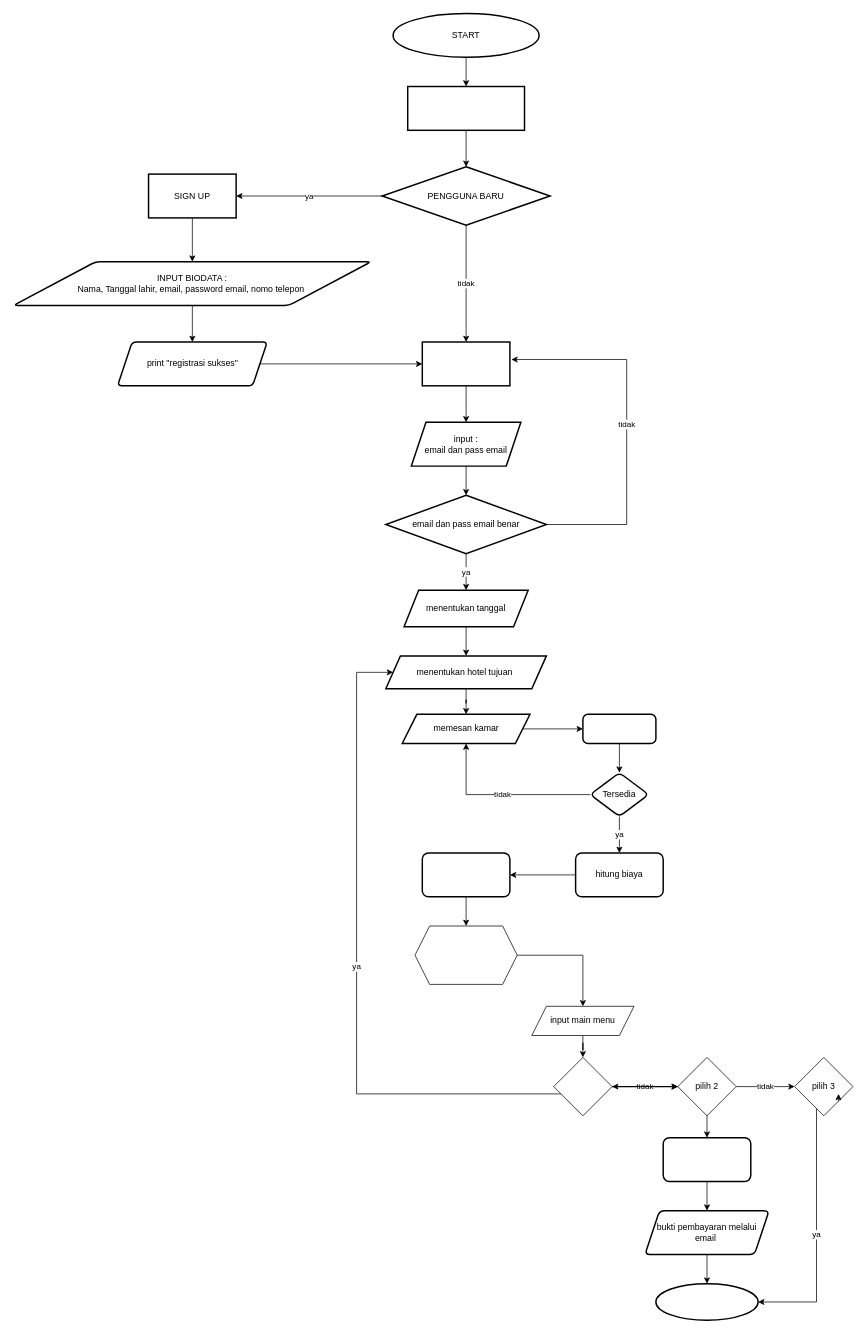
This 866x1333 diagram has some shape labels left out. The shapes that lost their labels are listed below. From the top down, each one's centre as x and y in pixels, then its label:
At pixel 466 108: "Melakukan Registrasi".
At pixel 465 363: "sign in".
At pixel 619 728: "cek kesediaan kamar".
At pixel 465 874: "persetujuan".
At pixel 465 954: "main menu : 1. memilih hotel baru 2. setuju 3. keluar".
At pixel 582 1086: "pilih 1".
At pixel 706 1159: "proses pembayaran".
At pixel 706 1302: "FINISH".
